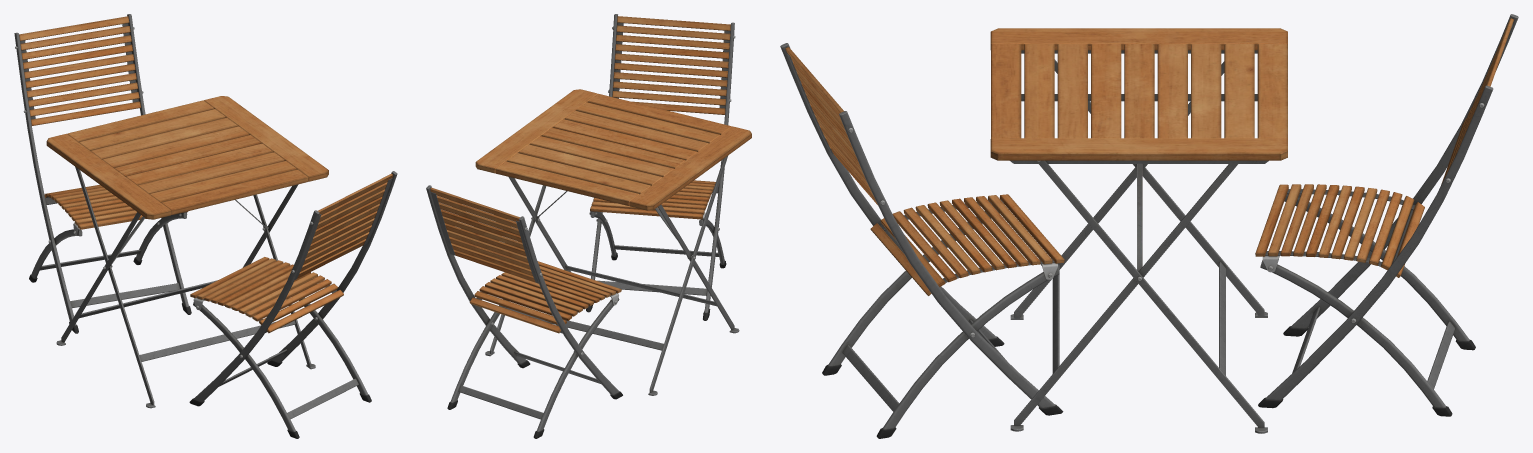
3 renders of one model, left to right at view 1: azimuth 30°, elevation 25°; view 2: azimuth 150°, elevation 25°; view 3: azimuth 270°, elevation 25°, orthographic. The views are drawn at different scales.
Parts seen in each view (by area): view 1: outdoor_table_chair_set_01_table, outdoor_table_chair_set_01_chair_02, outdoor_table_chair_set_01_chair_01; view 2: outdoor_table_chair_set_01_table, outdoor_table_chair_set_01_chair_02, outdoor_table_chair_set_01_chair_01; view 3: outdoor_table_chair_set_01_table, outdoor_table_chair_set_01_chair_01, outdoor_table_chair_set_01_chair_02.
Boxes of the visible parts, x1=… form: outdoor_table_chair_set_01_table: x1=46, y1=96, x2=328, y2=408; outdoor_table_chair_set_01_chair_02: x1=14, y1=14, x2=191, y2=333; outdoor_table_chair_set_01_chair_01: x1=189, y1=171, x2=397, y2=438; outdoor_table_chair_set_01_table: x1=475, y1=89, x2=751, y2=395; outdoor_table_chair_set_01_chair_02: x1=426, y1=185, x2=622, y2=438; outdoor_table_chair_set_01_chair_01: x1=586, y1=14, x2=735, y2=320; outdoor_table_chair_set_01_table: x1=990, y1=28, x2=1287, y2=433; outdoor_table_chair_set_01_chair_01: x1=780, y1=43, x2=1064, y2=438; outdoor_table_chair_set_01_chair_02: x1=1255, y1=14, x2=1518, y2=416.
Bounding box in the file's own units: 0.7417 × 0.8586 × 1.72.
Materials: 2 (2 with a texture image).
